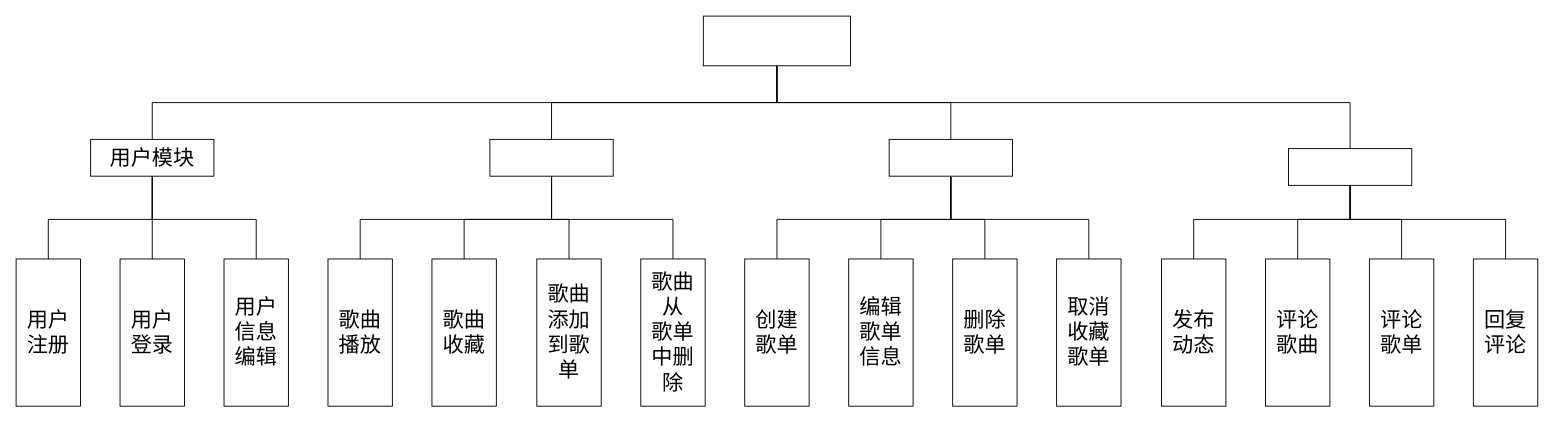
This 1554x422 diagram has some shape labels left out. Here are the shapes that lost their labels. From the top down, the centre of each, then its label:
At [776,40]: "音乐社交平台".
At [551,157]: "音乐模块".
At [950,157]: "歌单模块".
At [1350,166]: "社交模块".
